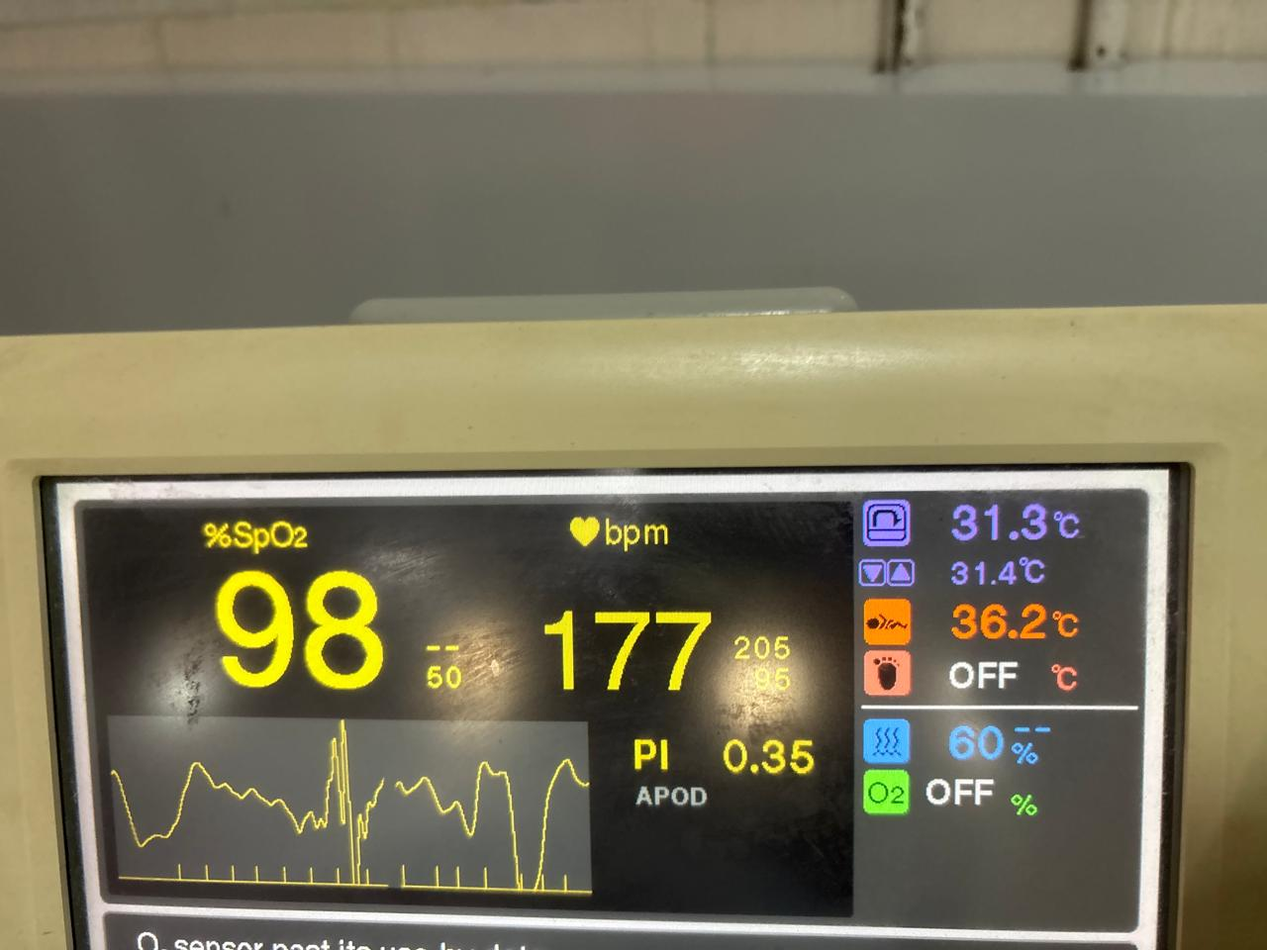air_temp_value: (942, 494, 1054, 555)
heart_rate_value: (525, 595, 725, 707)
humidity_value: (931, 716, 1009, 773)
skin_temp_value: (940, 596, 1049, 647)
spo2_value: (195, 559, 396, 701)
